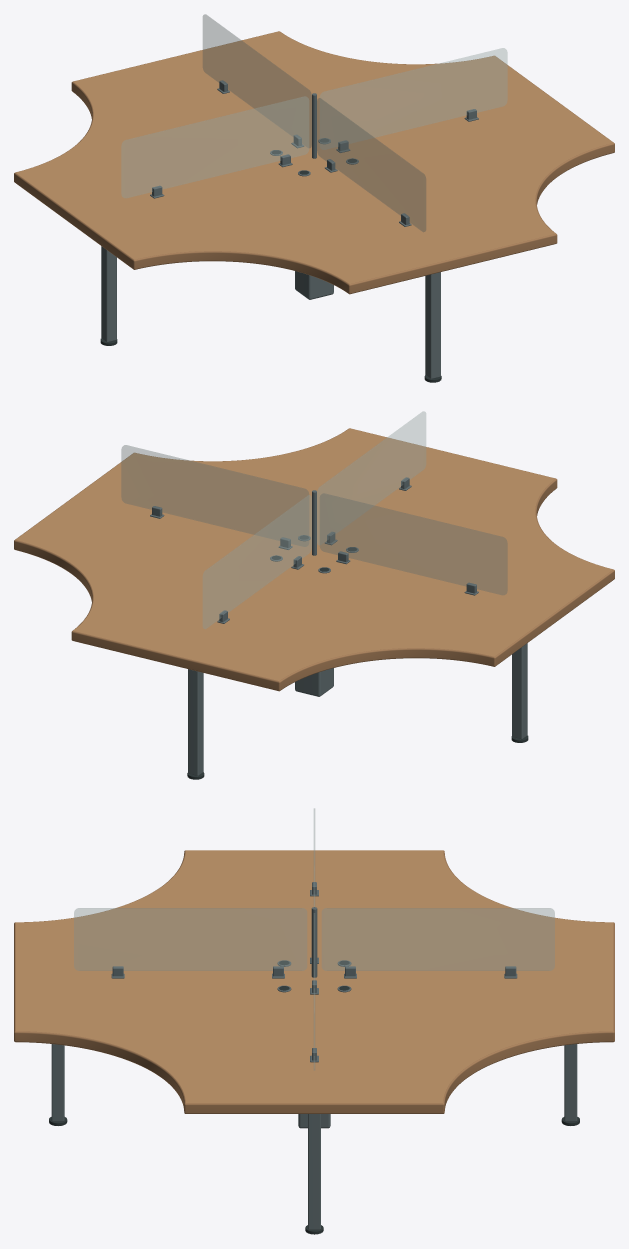
Rendered from team-pod-desktop.glb.
The picture shows the model from 3 angles, top to bottom: view 1: azimuth 30°, elevation 25°; view 2: azimuth 150°, elevation 25°; view 3: azimuth 270°, elevation 25°; orthographic projection. The views are drawn at different scales.
Visible parts, largest first — view 1: TeamPodDesktop, PodDividerGlass, PodDividerGlass.001, PodDividerGlass.003, PodDividerGlass.002, PodLeg.002, PodLeg.001, PodCableSpine; view 2: TeamPodDesktop, PodDividerGlass, PodDividerGlass.001, PodDividerGlass.002, PodDividerGlass.003, PodLeg.003, PodLeg.001, PodCableSpine; view 3: TeamPodDesktop, PodDividerGlass.002, PodDividerGlass.003, PodLeg, PodLeg.002, PodLeg.003.
Boxes of the visible parts, x1=… form: TeamPodDesktop: x1=14, y1=31, x2=614, y2=294; PodDividerGlass: x1=121, y1=96, x2=308, y2=197; PodDividerGlass.001: x1=320, y1=48, x2=507, y2=149; PodDividerGlass.003: x1=317, y1=98, x2=425, y2=231; PodDividerGlass.002: x1=203, y1=14, x2=311, y2=147; PodLeg.002: x1=425, y1=272, x2=440, y2=379; PodLeg.001: x1=101, y1=246, x2=116, y2=342; PodCableSpine: x1=295, y1=271, x2=333, y2=299; TeamPodDesktop: x1=14, y1=428, x2=614, y2=691; PodDividerGlass: x1=320, y1=493, x2=507, y2=594; PodDividerGlass.001: x1=121, y1=445, x2=308, y2=546; PodDividerGlass.002: x1=203, y1=495, x2=311, y2=628; PodDividerGlass.003: x1=317, y1=411, x2=425, y2=544; PodLeg.003: x1=188, y1=669, x2=203, y2=776; PodLeg.001: x1=512, y1=643, x2=527, y2=739; PodCableSpine: x1=295, y1=668, x2=333, y2=696; TeamPodDesktop: x1=14, y1=850, x2=614, y2=1113; PodDividerGlass.002: x1=322, y1=908, x2=554, y2=970; PodDividerGlass.003: x1=74, y1=908, x2=306, y2=970; PodLeg: x1=308, y1=1114, x2=320, y2=1229; PodLeg.002: x1=51, y1=1044, x2=64, y2=1121; PodLeg.003: x1=564, y1=1044, x2=577, y2=1121.
Size of the model in its own units: 3 by 1.18 by 3.
